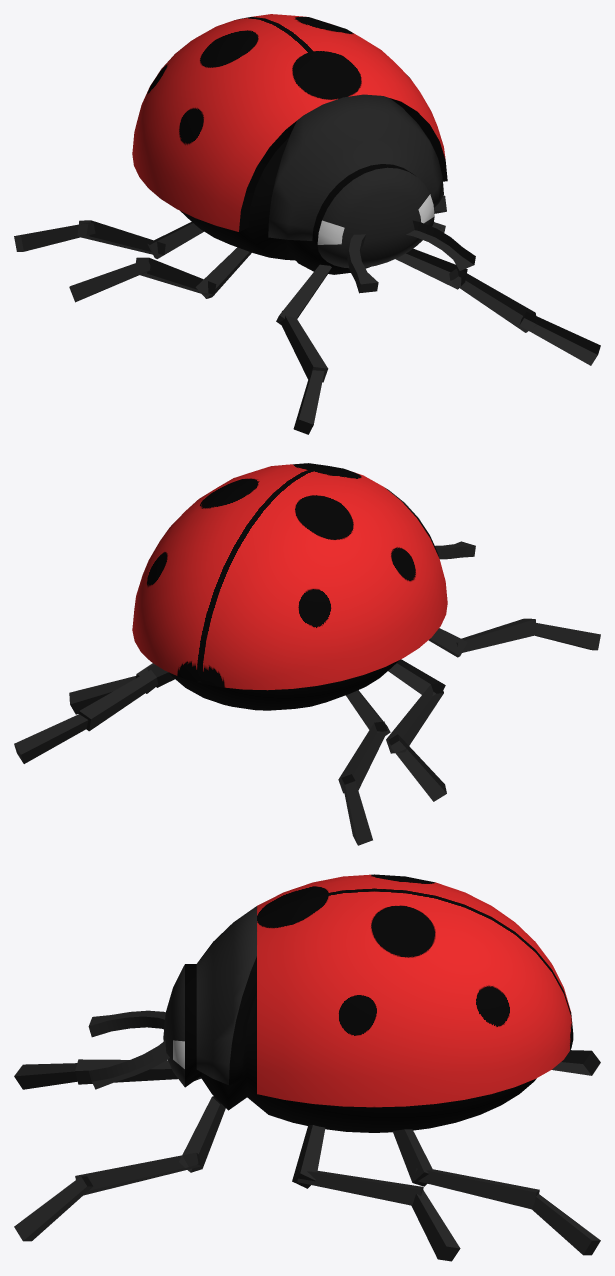
File: Fauna_Ladybug.fbx
3 renders of one model, top to bottom at view 1: azimuth 30°, elevation 25°; view 2: azimuth 150°, elevation 25°; view 3: azimuth 270°, elevation 25°, orthographic. The views are drawn at different scales.
Parts seen in each view (by area): view 1: wing2, head2, wing1, underbelly, Fauna_Ladybug, legA1b, legA1c, legC2b, legA2b, legB2b, antennae1, legA1 (+7 smaller); view 2: wing2, wing1, underbelly, legC1b, legC1c, legB2b, legB2c, legA2b, legC2b, Fauna_Ladybug, legC2c, legA2c (+5 smaller); view 3: wing1, head2, underbelly, wing2, legC1b, legB1b, legA1b, legA1c, legB1c, legC1c, antennae1, legA1 (+7 smaller).
Part boxes in pixels (bbox=[...]): wing2: bbox=[132, 18, 340, 231]; head2: bbox=[268, 94, 443, 268]; wing1: bbox=[251, 14, 445, 159]; underbelly: bbox=[180, 137, 370, 274]; Fauna_Ladybug: bbox=[237, 17, 447, 231]; legA1b: bbox=[449, 268, 537, 332]; legA1c: bbox=[519, 311, 600, 365]; legC2b: bbox=[77, 220, 165, 255]; legA2b: bbox=[280, 311, 328, 382]; legB2b: bbox=[134, 257, 216, 295]; antennae1: bbox=[406, 220, 475, 270]; legA1: bbox=[395, 248, 467, 289]; wing2: bbox=[200, 467, 447, 690]; wing1: bbox=[132, 463, 327, 682]; underbelly: bbox=[169, 660, 399, 710]; legC1b: bbox=[79, 670, 158, 731]; legC1c: bbox=[14, 714, 88, 763]; legB2b: bbox=[386, 683, 443, 753]; legB2c: bbox=[388, 734, 446, 801]; legA2b: bbox=[450, 618, 536, 653]; legC2b: bbox=[338, 721, 387, 793]; Fauna_Ladybug: bbox=[197, 466, 343, 682]; legC2c: bbox=[341, 774, 372, 845]; legA2c: bbox=[535, 623, 600, 650]; wing1: bbox=[257, 891, 573, 1107]; head2: bbox=[163, 906, 257, 1087]; underbelly: bbox=[200, 993, 536, 1132]; wing2: bbox=[257, 874, 572, 1025]; legC1b: bbox=[415, 1168, 539, 1209]; legB1b: bbox=[297, 1170, 423, 1205]; legA1b: bbox=[75, 1152, 200, 1195]; legA1c: bbox=[14, 1176, 93, 1241]; legB1c: bbox=[411, 1190, 460, 1261]; legC1c: bbox=[532, 1194, 600, 1255]; antennae1: bbox=[88, 1040, 169, 1089]; legA1: bbox=[179, 1096, 225, 1172].
Bounding box in the file's own units: 19.24 × 12.27 × 23.68.
Materials: 4 (1 with a texture image).
